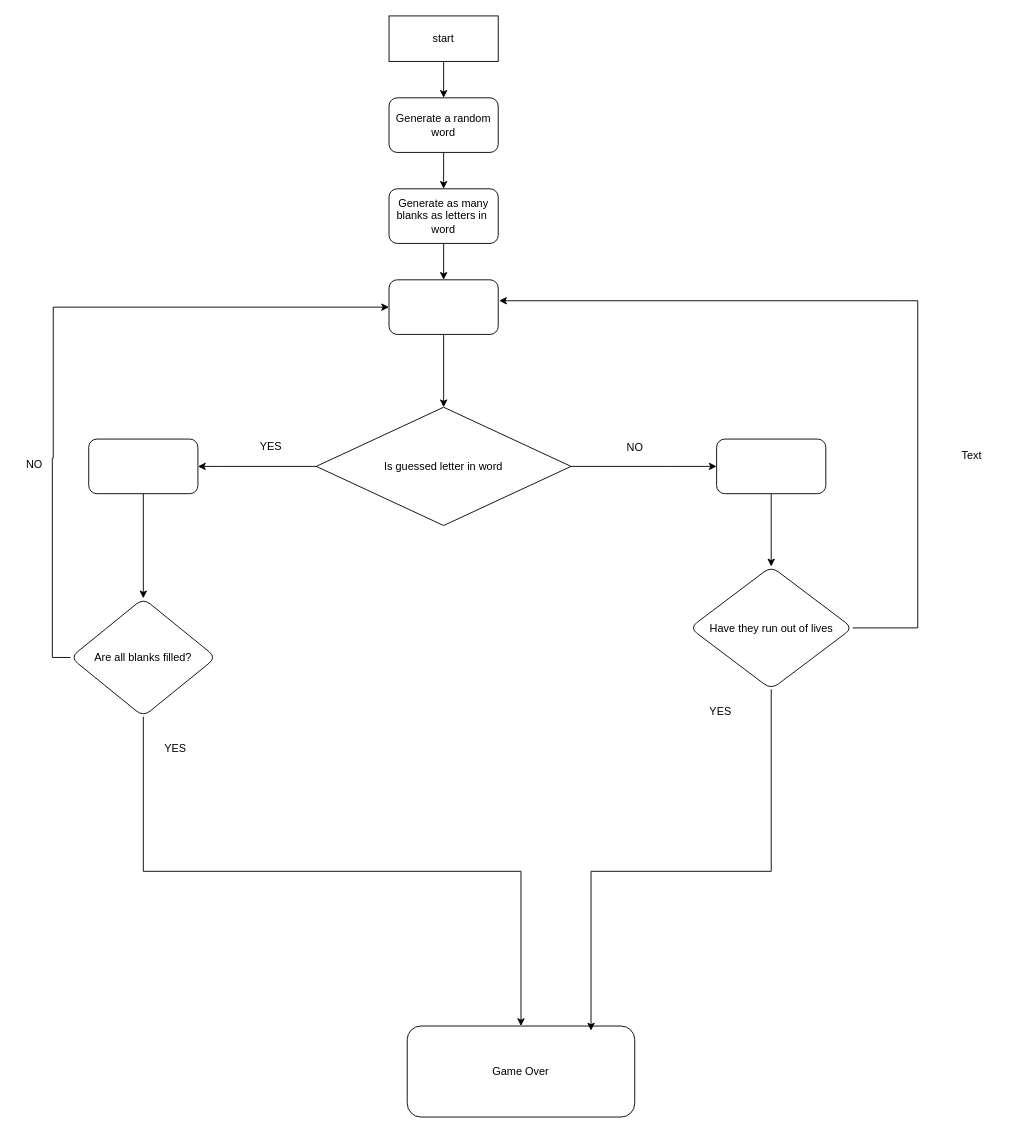
This 1009x1133 diagram has some shape labels left out. Here are the shapes that lost their labels. From the top down, the centre of each, then its label:
At point 443,306: "Ask the user to guess a letter".
At point 143,466: "Replace blank letter with the letter".
At point 771,466: "Lose a life".
